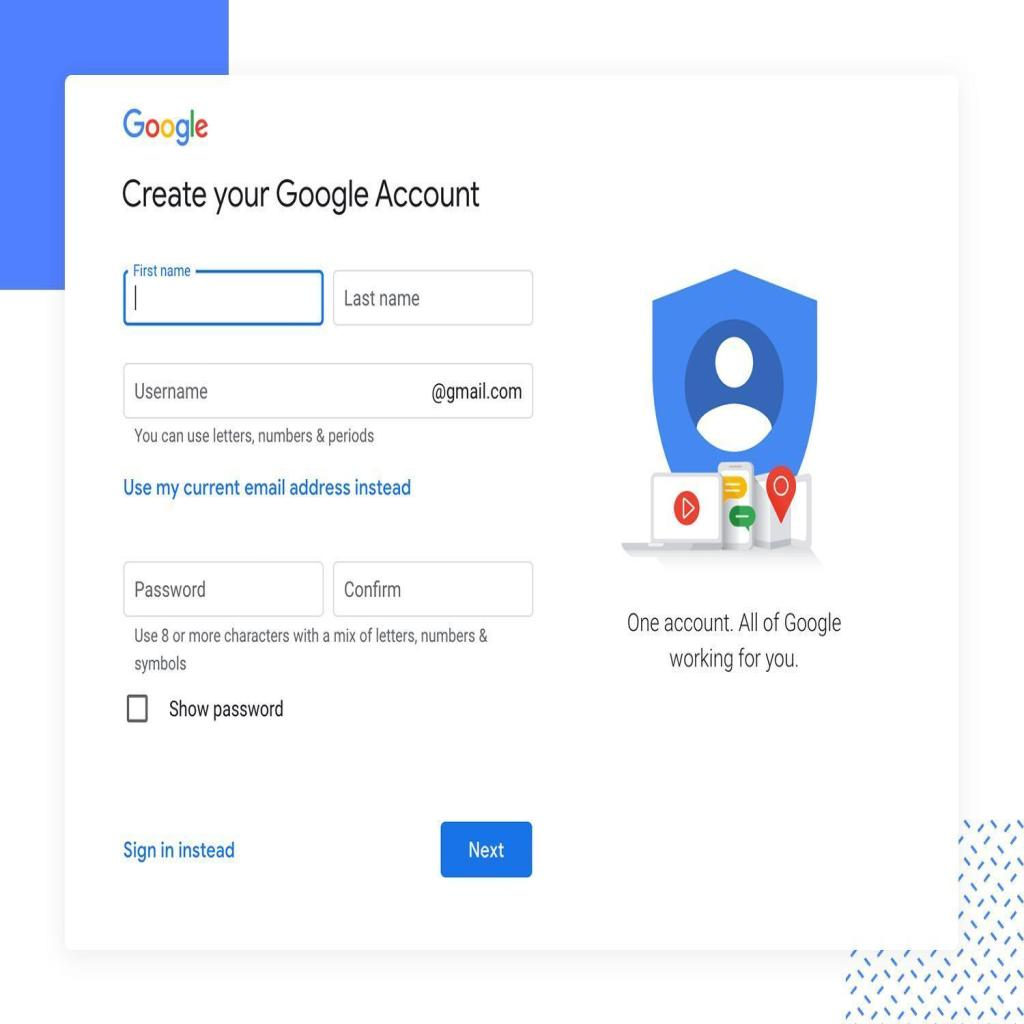button: (440, 821, 534, 878)
checkbox: (128, 696, 146, 720)
input: (123, 362, 533, 420), (124, 560, 324, 616), (124, 270, 323, 326), (333, 562, 533, 616), (334, 270, 533, 324)
label: (129, 622, 491, 678), (118, 171, 483, 210), (117, 473, 414, 503), (134, 424, 384, 448), (165, 695, 287, 723), (116, 837, 238, 862)
